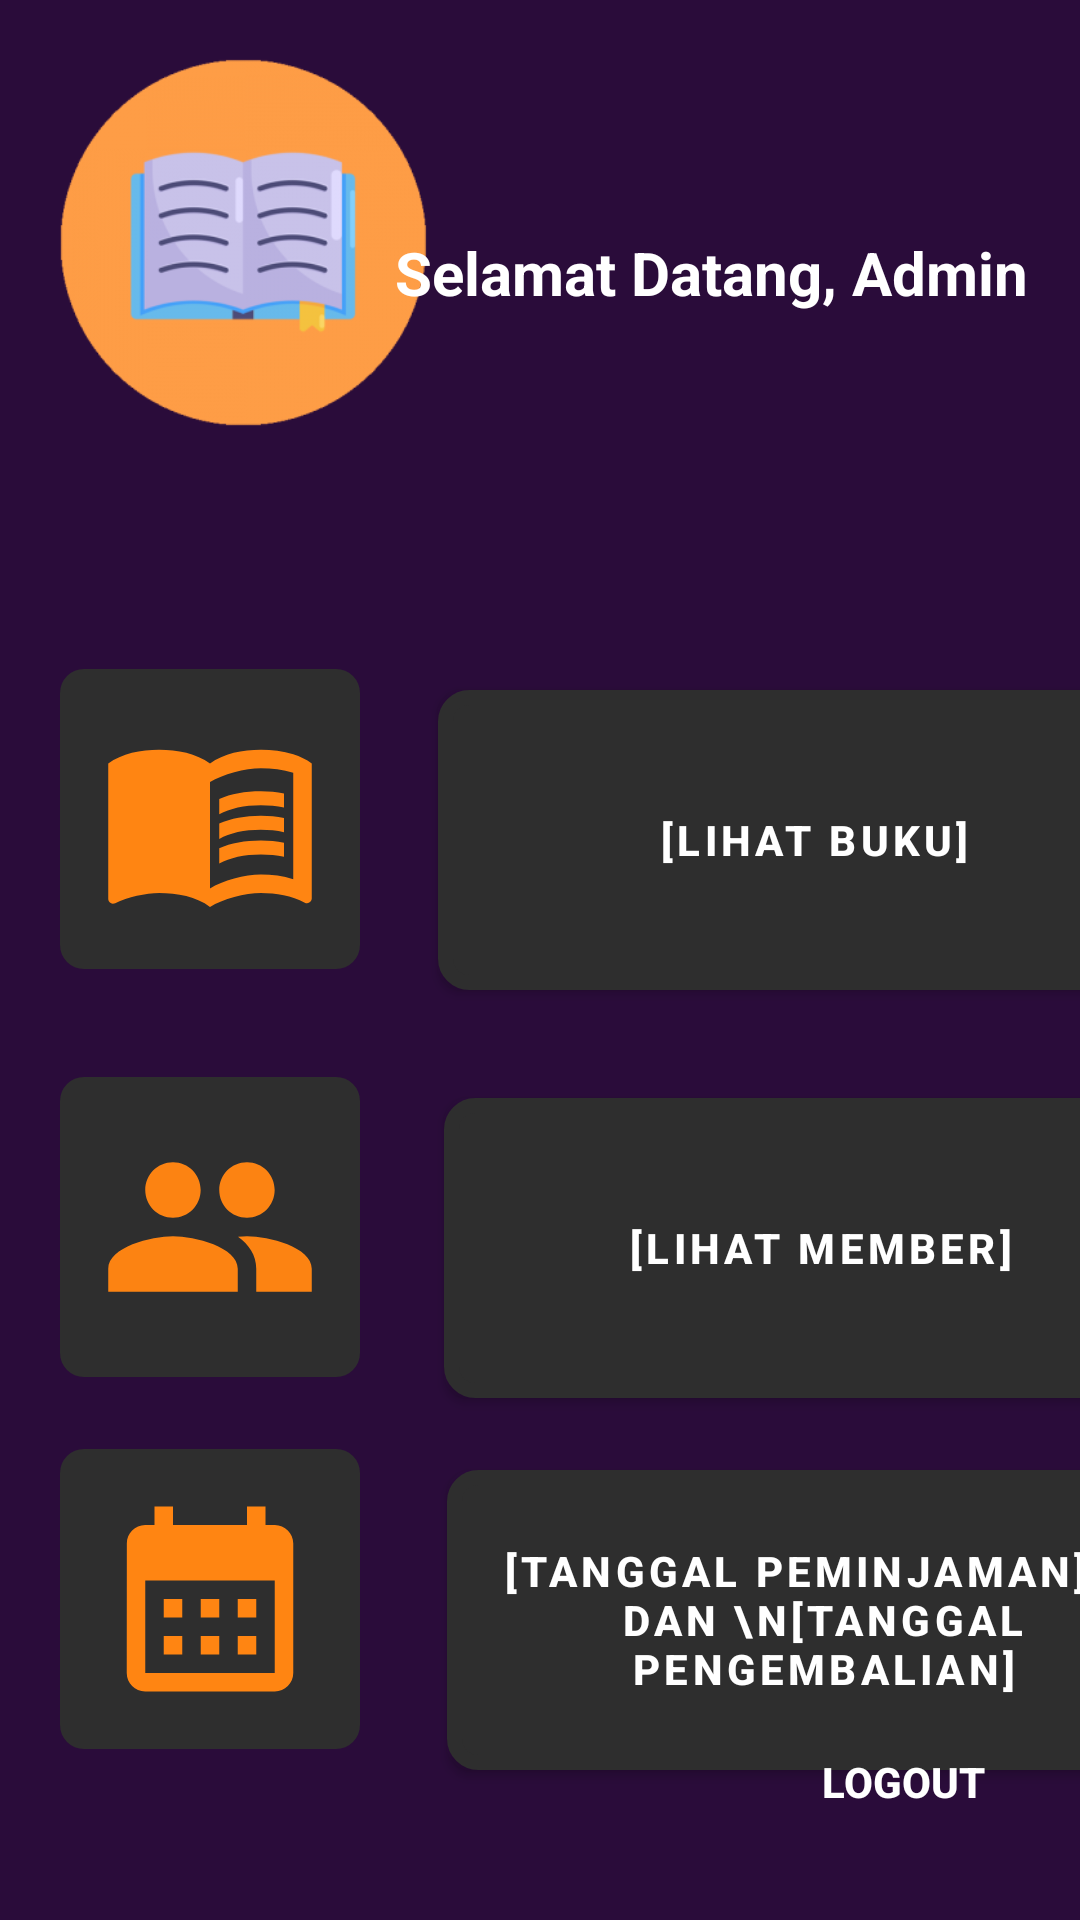

Screen size 1080px×1920px. Icon name, then its center in pixels as (x=x, y=y):
calendar: (x=210, y=1599)
members: (x=210, y=1227)
